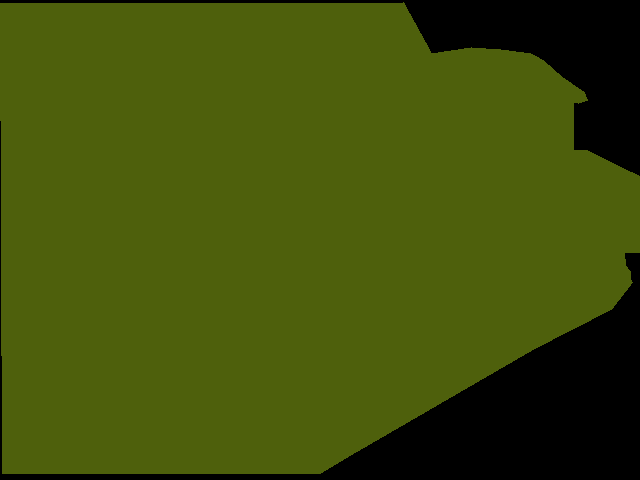Train: (0, 2, 640, 474)
